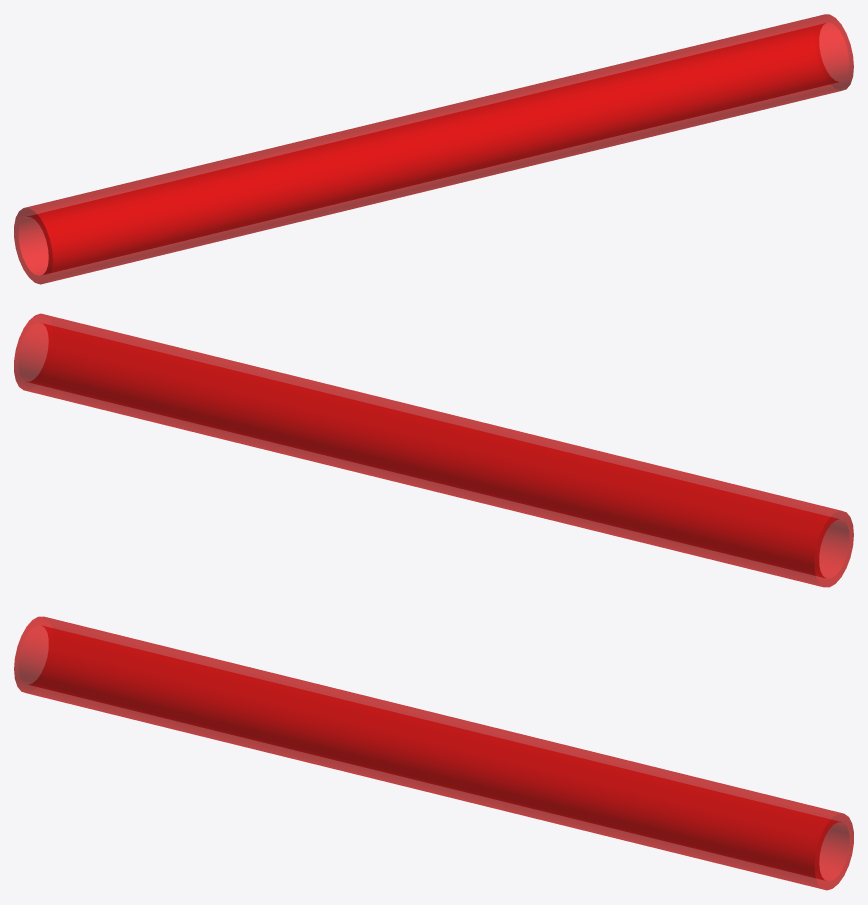
The model's file is Bloodtube.fbx.
3 views of the same model, one above another, from view 1: azimuth 30°, elevation 25°; view 2: azimuth 150°, elevation 25°; view 3: azimuth 330°, elevation 25° (orthographic).
Visible parts, largest first — view 1: defaultBrush1Main; view 2: defaultBrush1Main; view 3: defaultBrush1Main.
Boxes of the visible parts, x1,y1,x2,y2 form: defaultBrush1Main: (14, 14, 853, 284); defaultBrush1Main: (14, 313, 853, 587); defaultBrush1Main: (14, 616, 853, 890).
Bounding box in the file's own units: 18.95 × 1.61 × 1.68.
